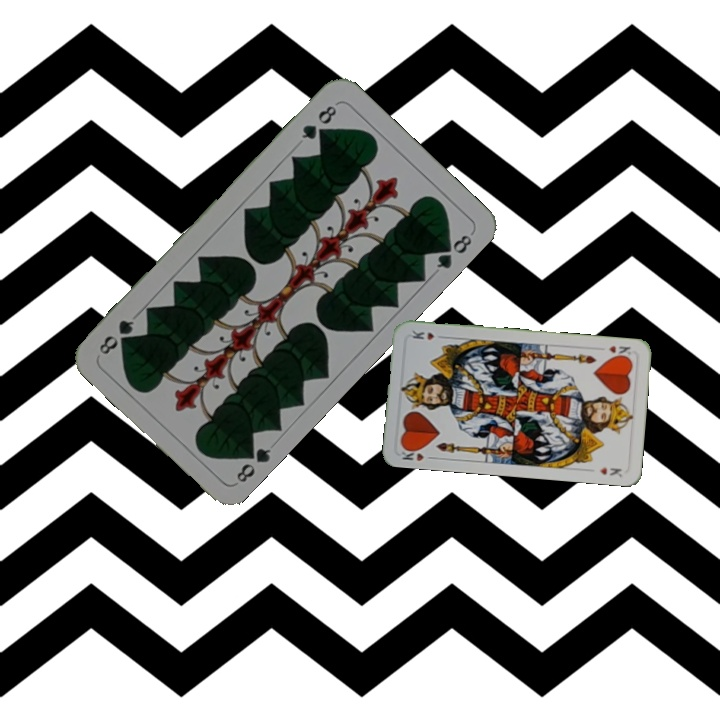G8: (232, 440, 274, 485), (297, 101, 340, 143)
HK: (397, 443, 437, 464), (605, 341, 633, 361)
